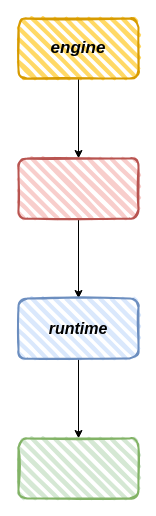
Some shapes in this 156 by 516 pixel diagram are drawn without their labels. Each missing label, with the box of its shape:
builder: (17, 157, 139, 219)
ops: (17, 437, 139, 499)
